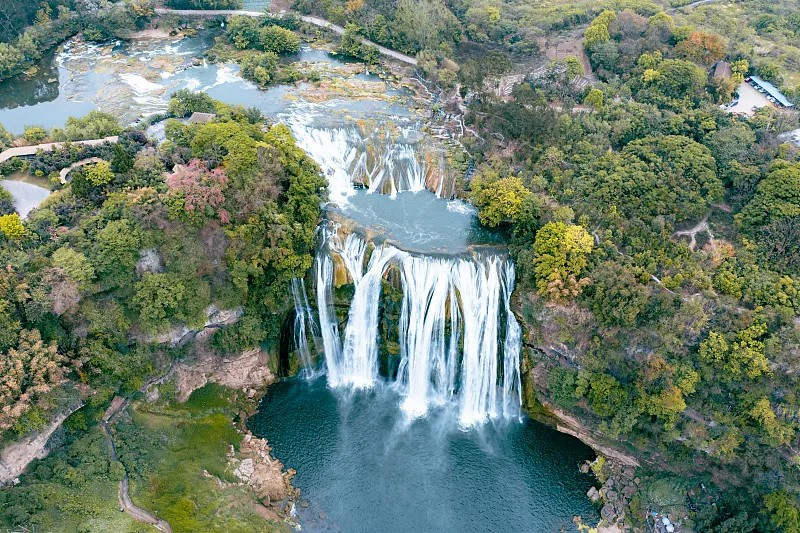Huangguoshu: (292, 128, 523, 425)
